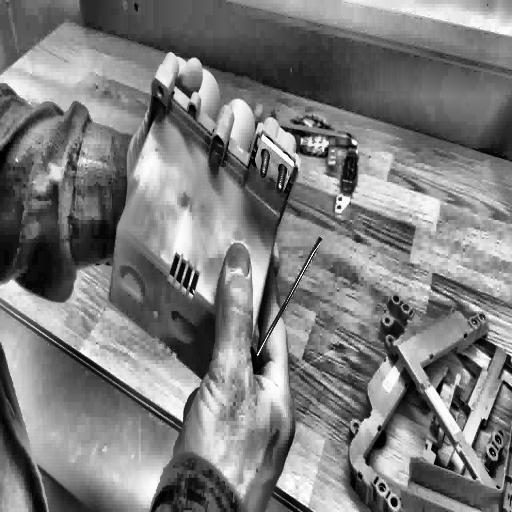connector: (106, 30, 310, 396)
